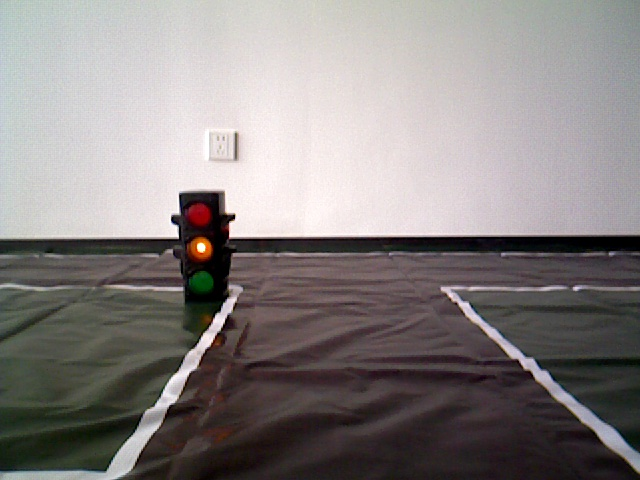yellow: (172, 193, 232, 304)
